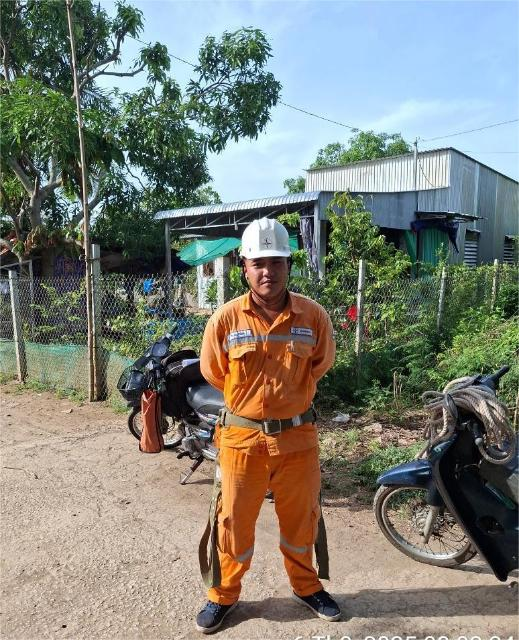harness: (217, 407, 318, 439)
helmet: (234, 213, 301, 265)
shoes: (270, 574, 351, 628), (182, 572, 242, 635)
